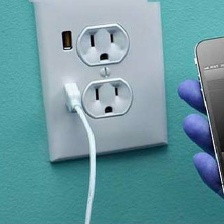phone: (190, 29, 223, 198)
three_eye_plug: (29, 0, 173, 168)
